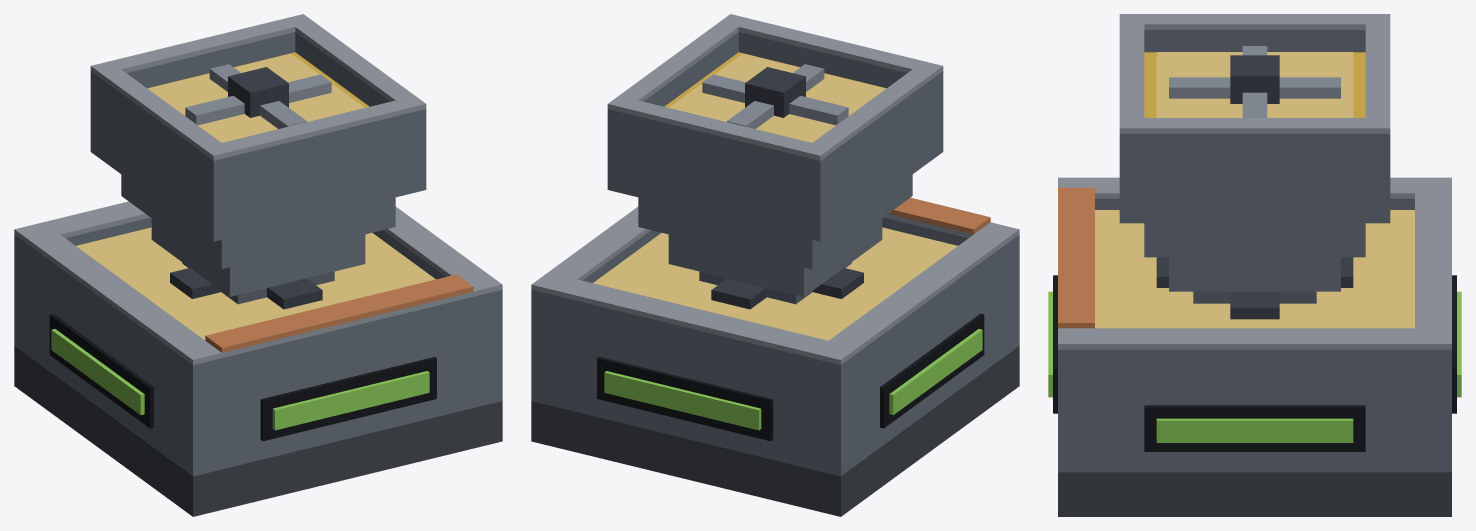
The model's file is feeder.glb.
The picture shows the model from 3 angles, left to right: view 1: azimuth 30°, elevation 25°; view 2: azimuth 150°, elevation 25°; view 3: azimuth 270°, elevation 25°; orthographic projection. The views are drawn at different scales.
Visible parts, largest first — view 1: body.048, level_feed, tier.023, auger; view 2: body.048, level_feed, auger, tier.023; view 3: body.048, level_feed, auger, tier.023.
Boxes of the visible parts, bbox=[...] form: body.048: bbox=[14, 14, 502, 516]; level_feed: bbox=[76, 227, 435, 340]; tier.023: bbox=[205, 274, 473, 352]; auger: bbox=[185, 64, 331, 128]; body.048: bbox=[531, 14, 1019, 516]; level_feed: bbox=[593, 227, 957, 340]; auger: bbox=[702, 64, 848, 128]; tier.023: bbox=[889, 197, 990, 234]; body.048: bbox=[1048, 14, 1461, 516]; level_feed: bbox=[1095, 210, 1414, 328]; auger: bbox=[1169, 46, 1340, 117]; tier.023: bbox=[1058, 187, 1094, 328].
Size of the model in its own units: 1.05 by 1.03 by 1.05.
